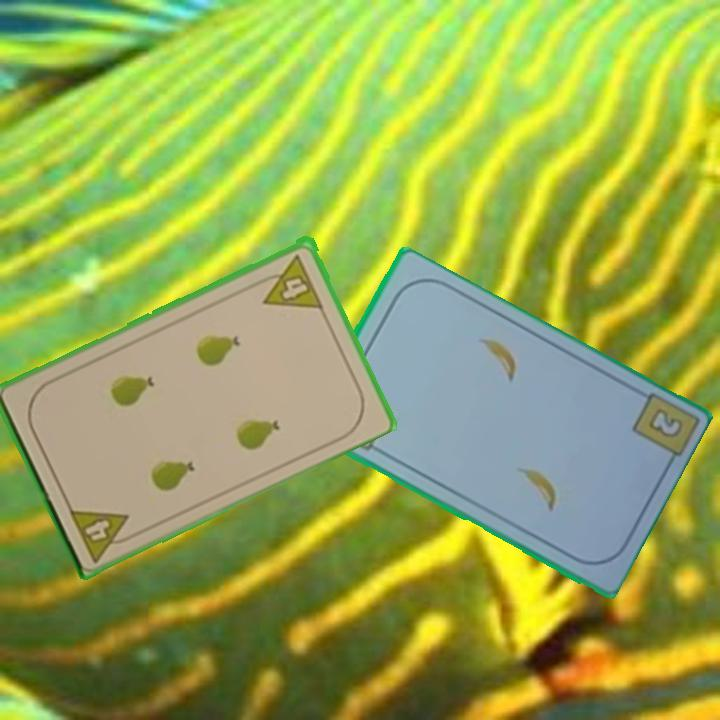2b: (644, 404, 686, 441)
4p: (65, 504, 141, 565), (252, 249, 326, 311)
